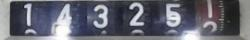digits: (56, 3, 72, 28), (93, 3, 108, 28), (128, 2, 144, 25), (165, 3, 180, 26), (24, 3, 32, 26), (206, 0, 214, 19)
